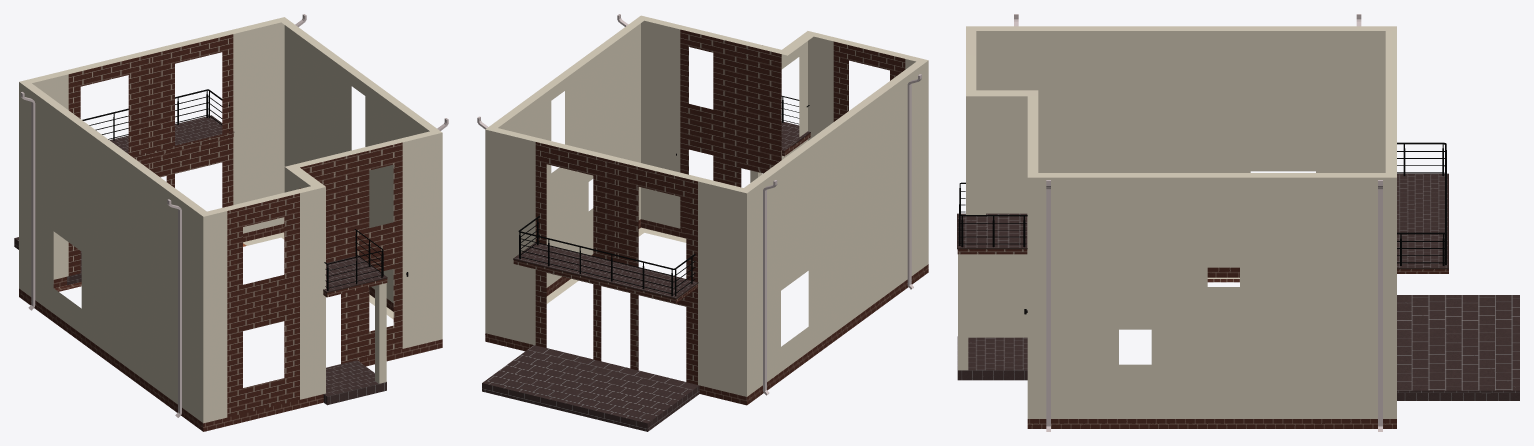
Rendered from Albina_house.FBX.
The picture shows the model from 3 angles, left to right: view 1: azimuth 30°, elevation 25°; view 2: azimuth 150°, elevation 25°; view 3: azimuth 270°, elevation 25°; orthographic projection. The views are drawn at different scales.
Visible parts, largest first — view 1: Albina_house; view 2: Albina_house; view 3: Albina_house.
Boxes of the visible parts, box(x1,y1,x2,y2) form: Albina_house: box(14, 14, 448, 431); Albina_house: box(477, 14, 928, 431); Albina_house: box(957, 14, 1519, 431).
Bounding box in the file's own units: 9720 × 6944 × 13834.
